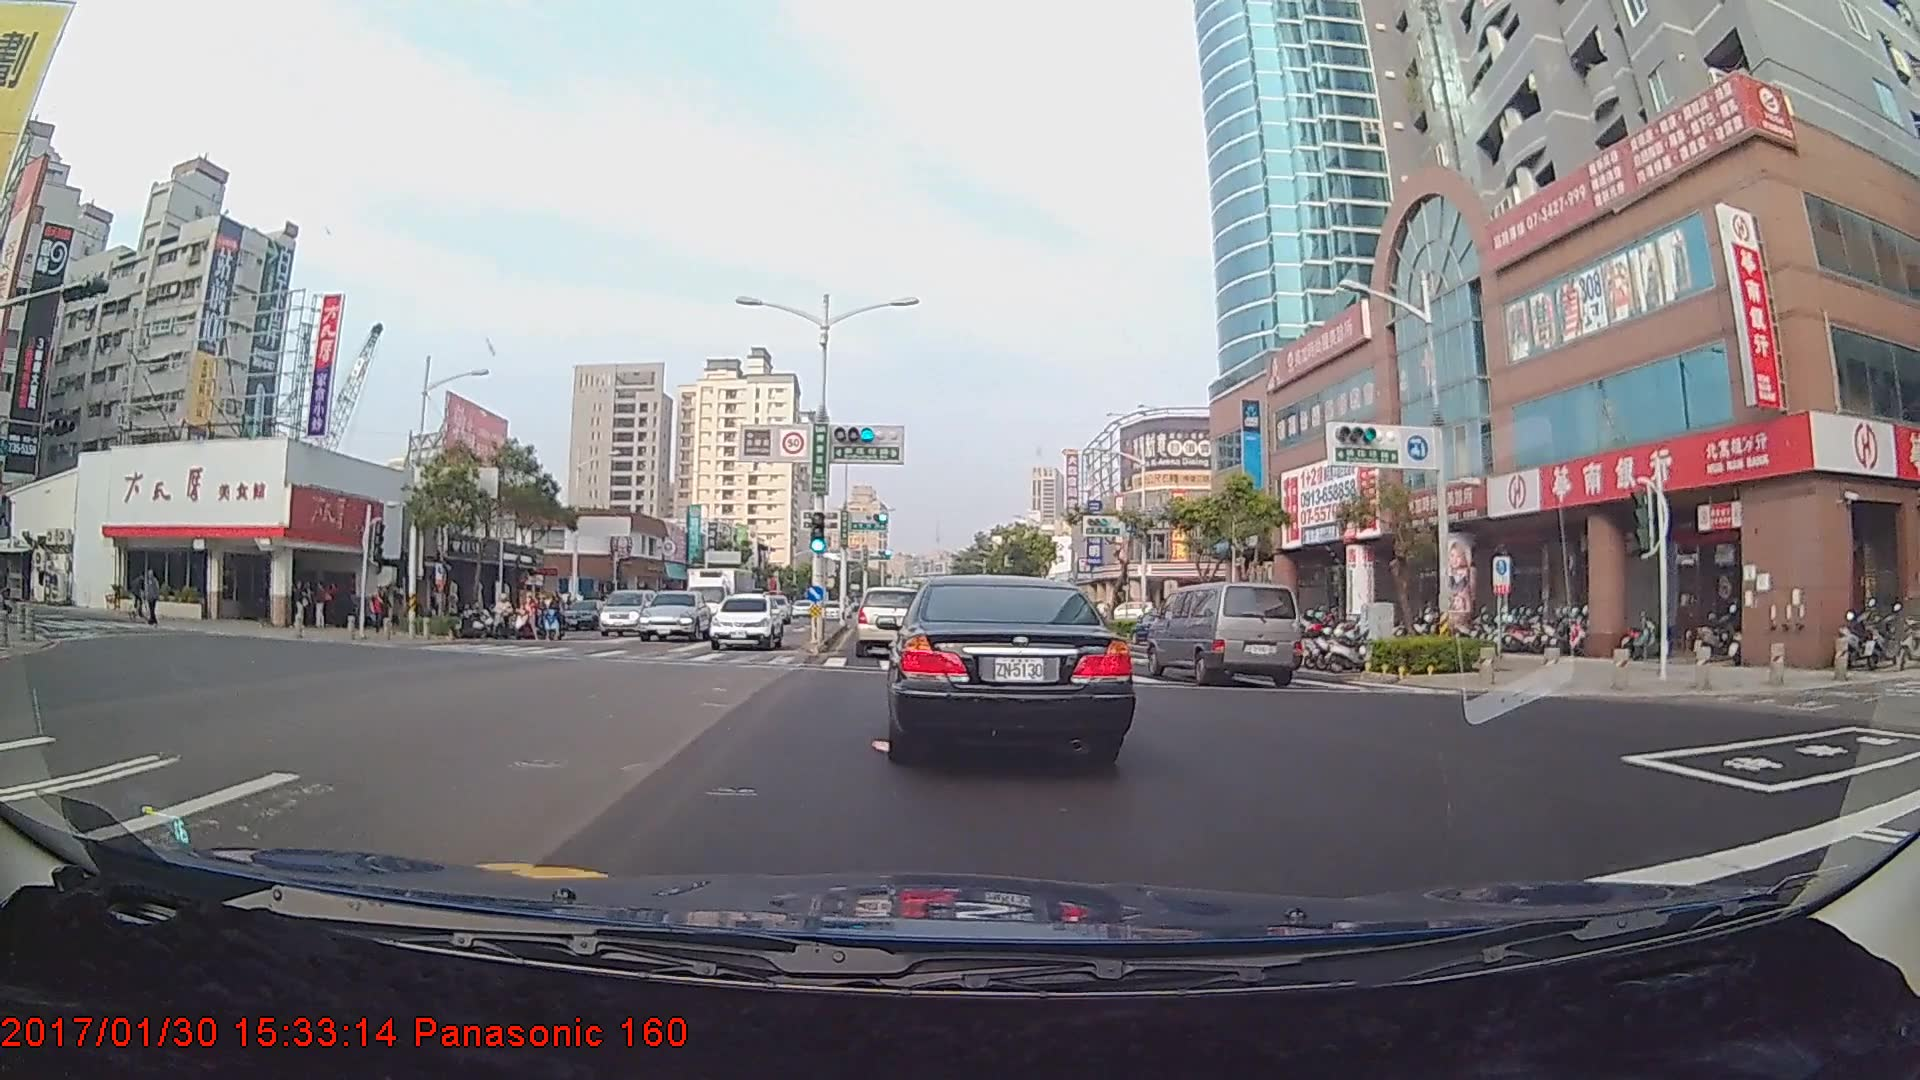pedestrian: (141, 569, 164, 627), (291, 578, 311, 633), (311, 580, 331, 630)
vehicle: (884, 570, 1129, 765), (1146, 579, 1301, 687), (853, 582, 929, 656), (686, 561, 760, 634), (710, 591, 784, 650), (638, 590, 712, 643), (594, 585, 656, 637)
